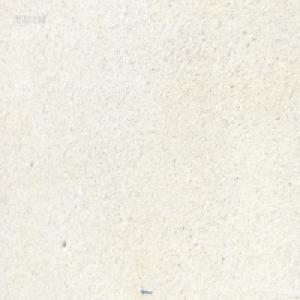Nail: (140, 285, 152, 294)
